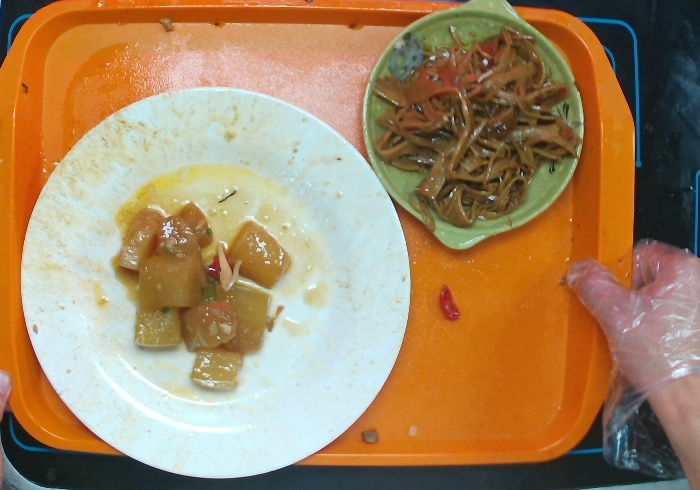NLDX-Da_Yuan_Pan: (19, 82, 417, 484)
NLDX-Lv_Hua_Shuang_Er_Die: (356, 1, 589, 251)
